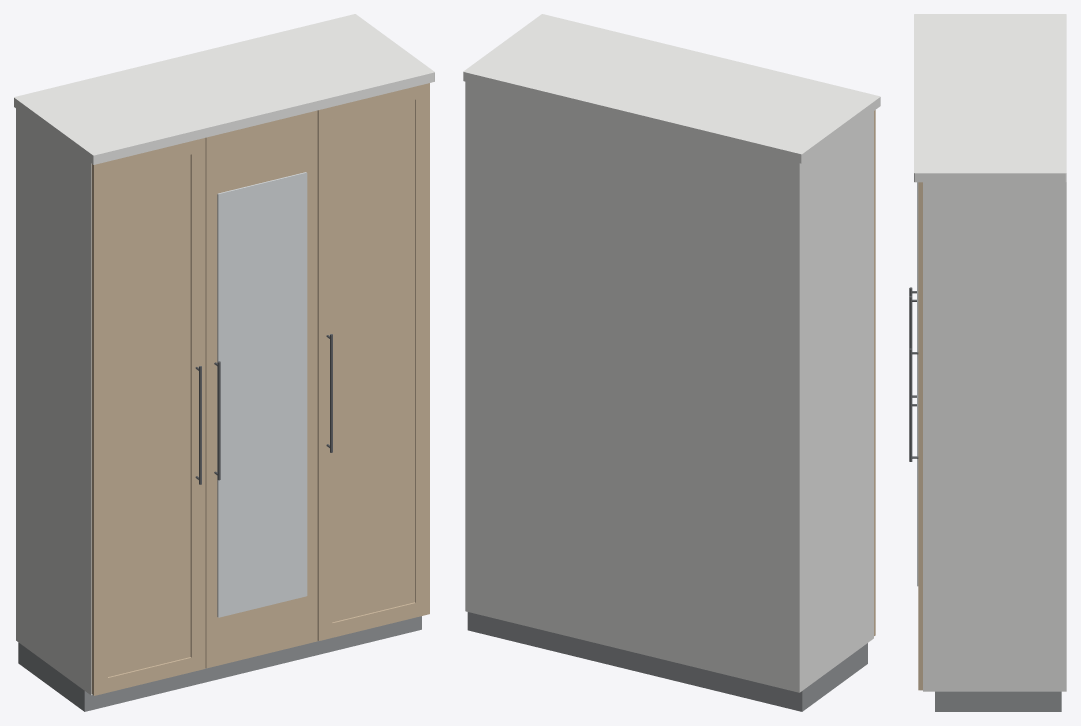
3 renders of one model, left to right at view 1: azimuth 30°, elevation 25°; view 2: azimuth 150°, elevation 25°; view 3: azimuth 270°, elevation 25°, orthographic. The views are drawn at different scales.
Visible parts, largest first — view 1: Tủ áo cánh mở Chiều rộng=1500; Chiều sâu=600; view 2: Tủ áo cánh mở Chiều rộng=1500; Chiều sâu=600; view 3: Tủ áo cánh mở Chiều rộng=1500; Chiều sâu=600.
Boxes of the visible parts, bbox=[...] form: Tủ áo cánh mở Chiều rộng=1500; Chiều sâu=600: bbox=[14, 14, 434, 711]; Tủ áo cánh mở Chiều rộng=1500; Chiều sâu=600: bbox=[463, 14, 880, 711]; Tủ áo cánh mở Chiều rộng=1500; Chiều sâu=600: bbox=[909, 14, 1066, 711].
Size of the model in its own units: 1.52 by 2.4 by 0.633.
